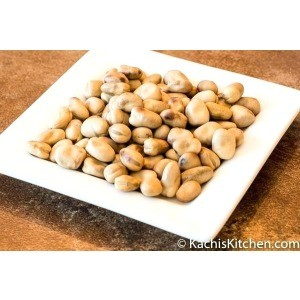beans_brain food: (81, 93, 228, 167)
